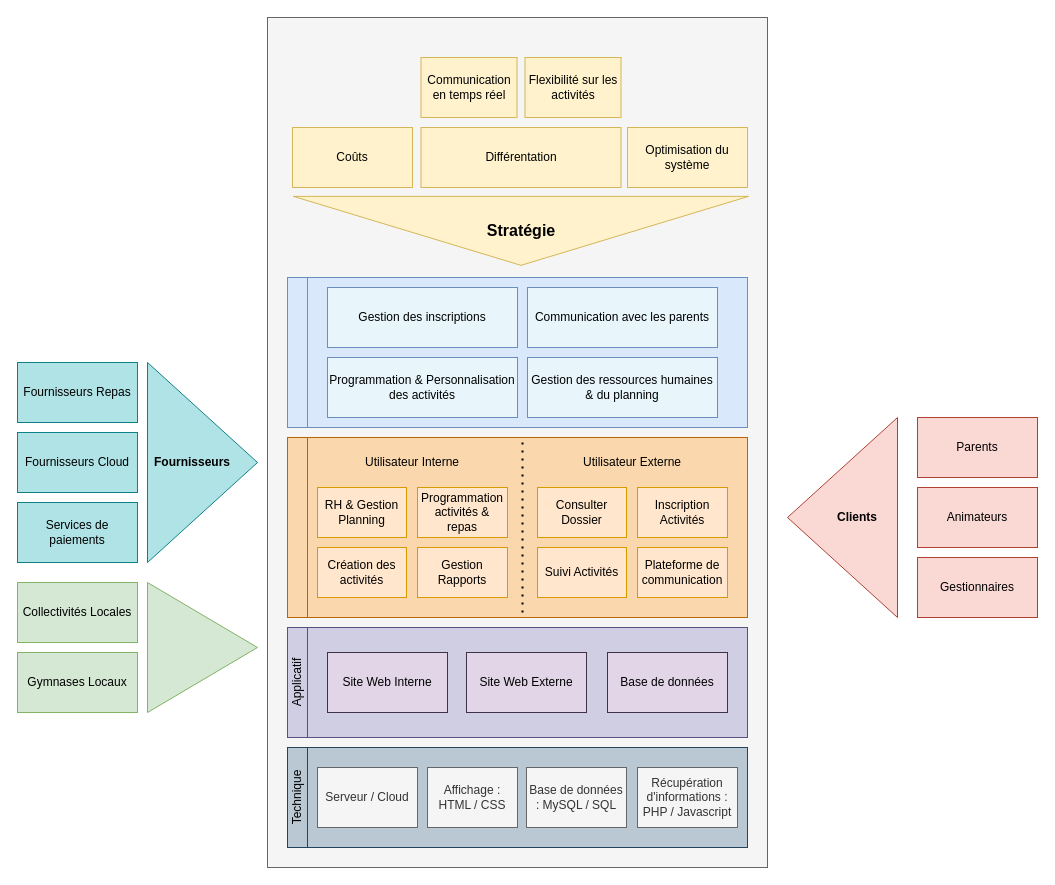
This 1055x885 diagram has some shape labels left out. The shapes that lost their labels are listed below. From the top down, each one's box as (x1, y1, x2, y2) in pixels, then its label:
(286, 276, 308, 428): Processus Métiers
(286, 436, 308, 618): Fonctionnel
(146, 582, 258, 712): Partenaires
